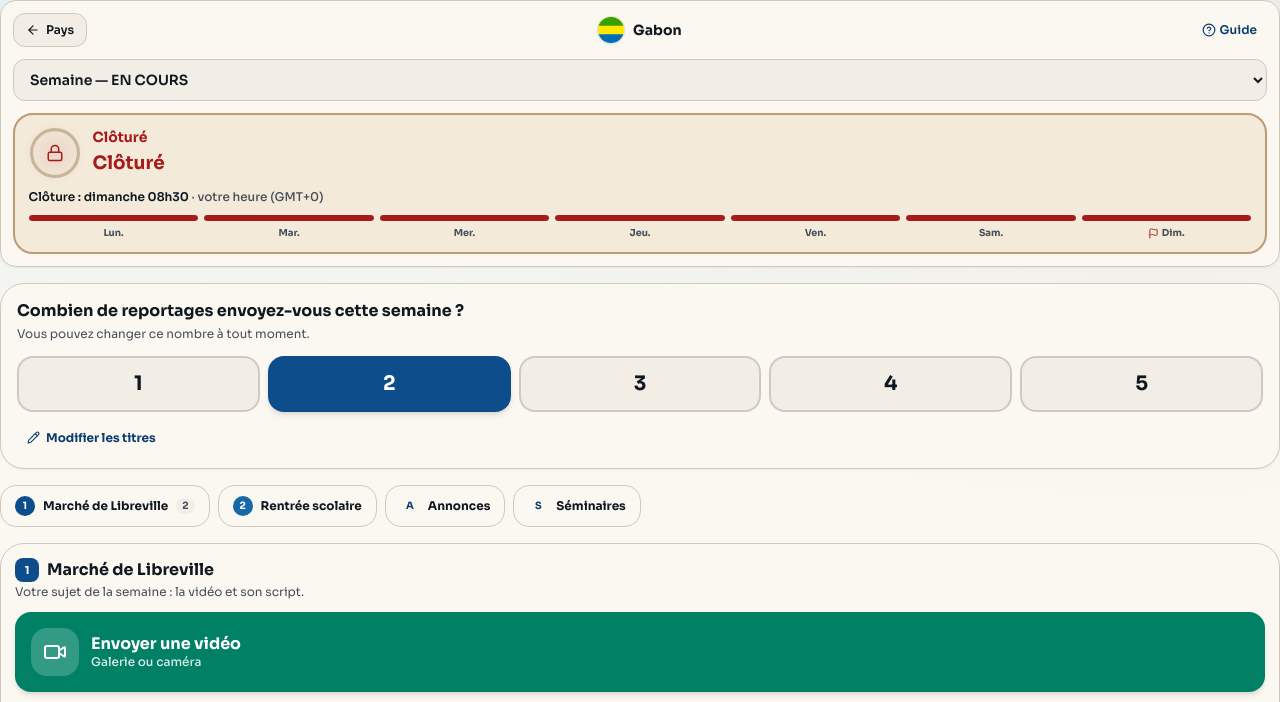
choisir le nombre de reportages › ne valide pas un reportage sans titre
Click the button "3".
click(640, 384)  # box [519,356,761,412]
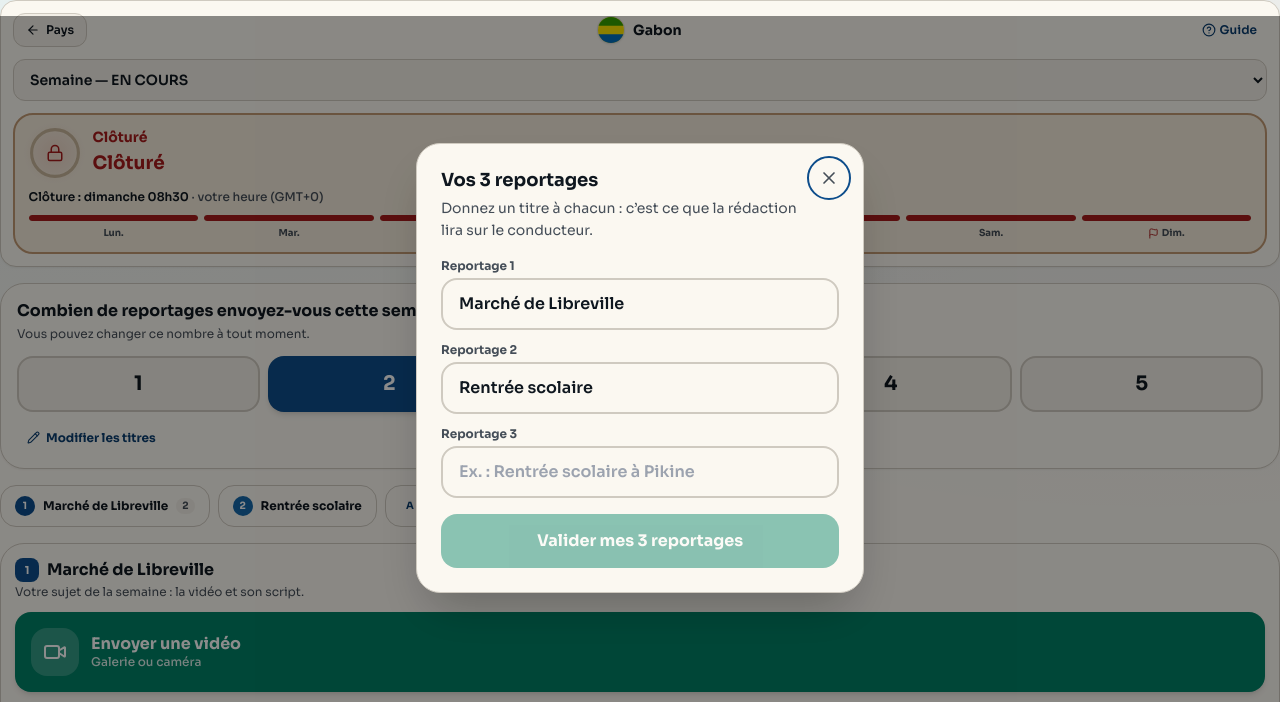
Expected: the button "Valider mes 3 reportages" is disabled, [441,514,839,568]
